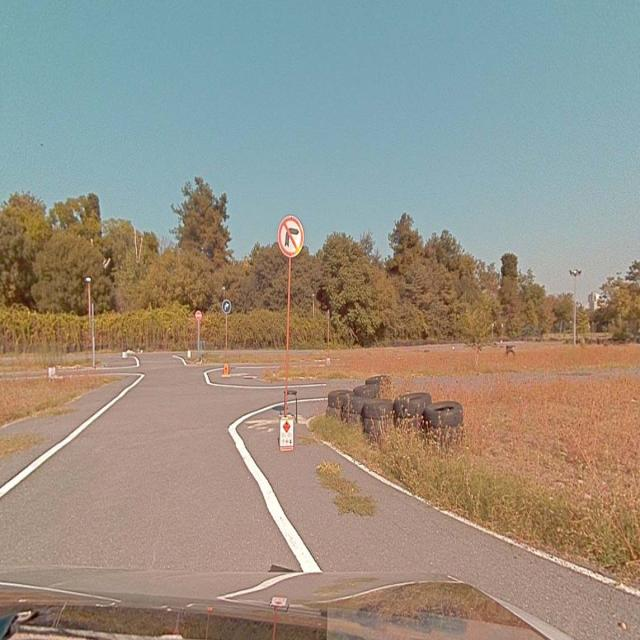girisyok: (196, 310, 202, 321)
sag: (222, 299, 231, 313)
sagadonulmez: (277, 216, 303, 256)
